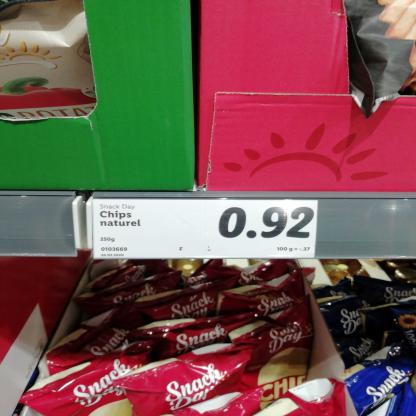prtg: (93, 200, 319, 260)
